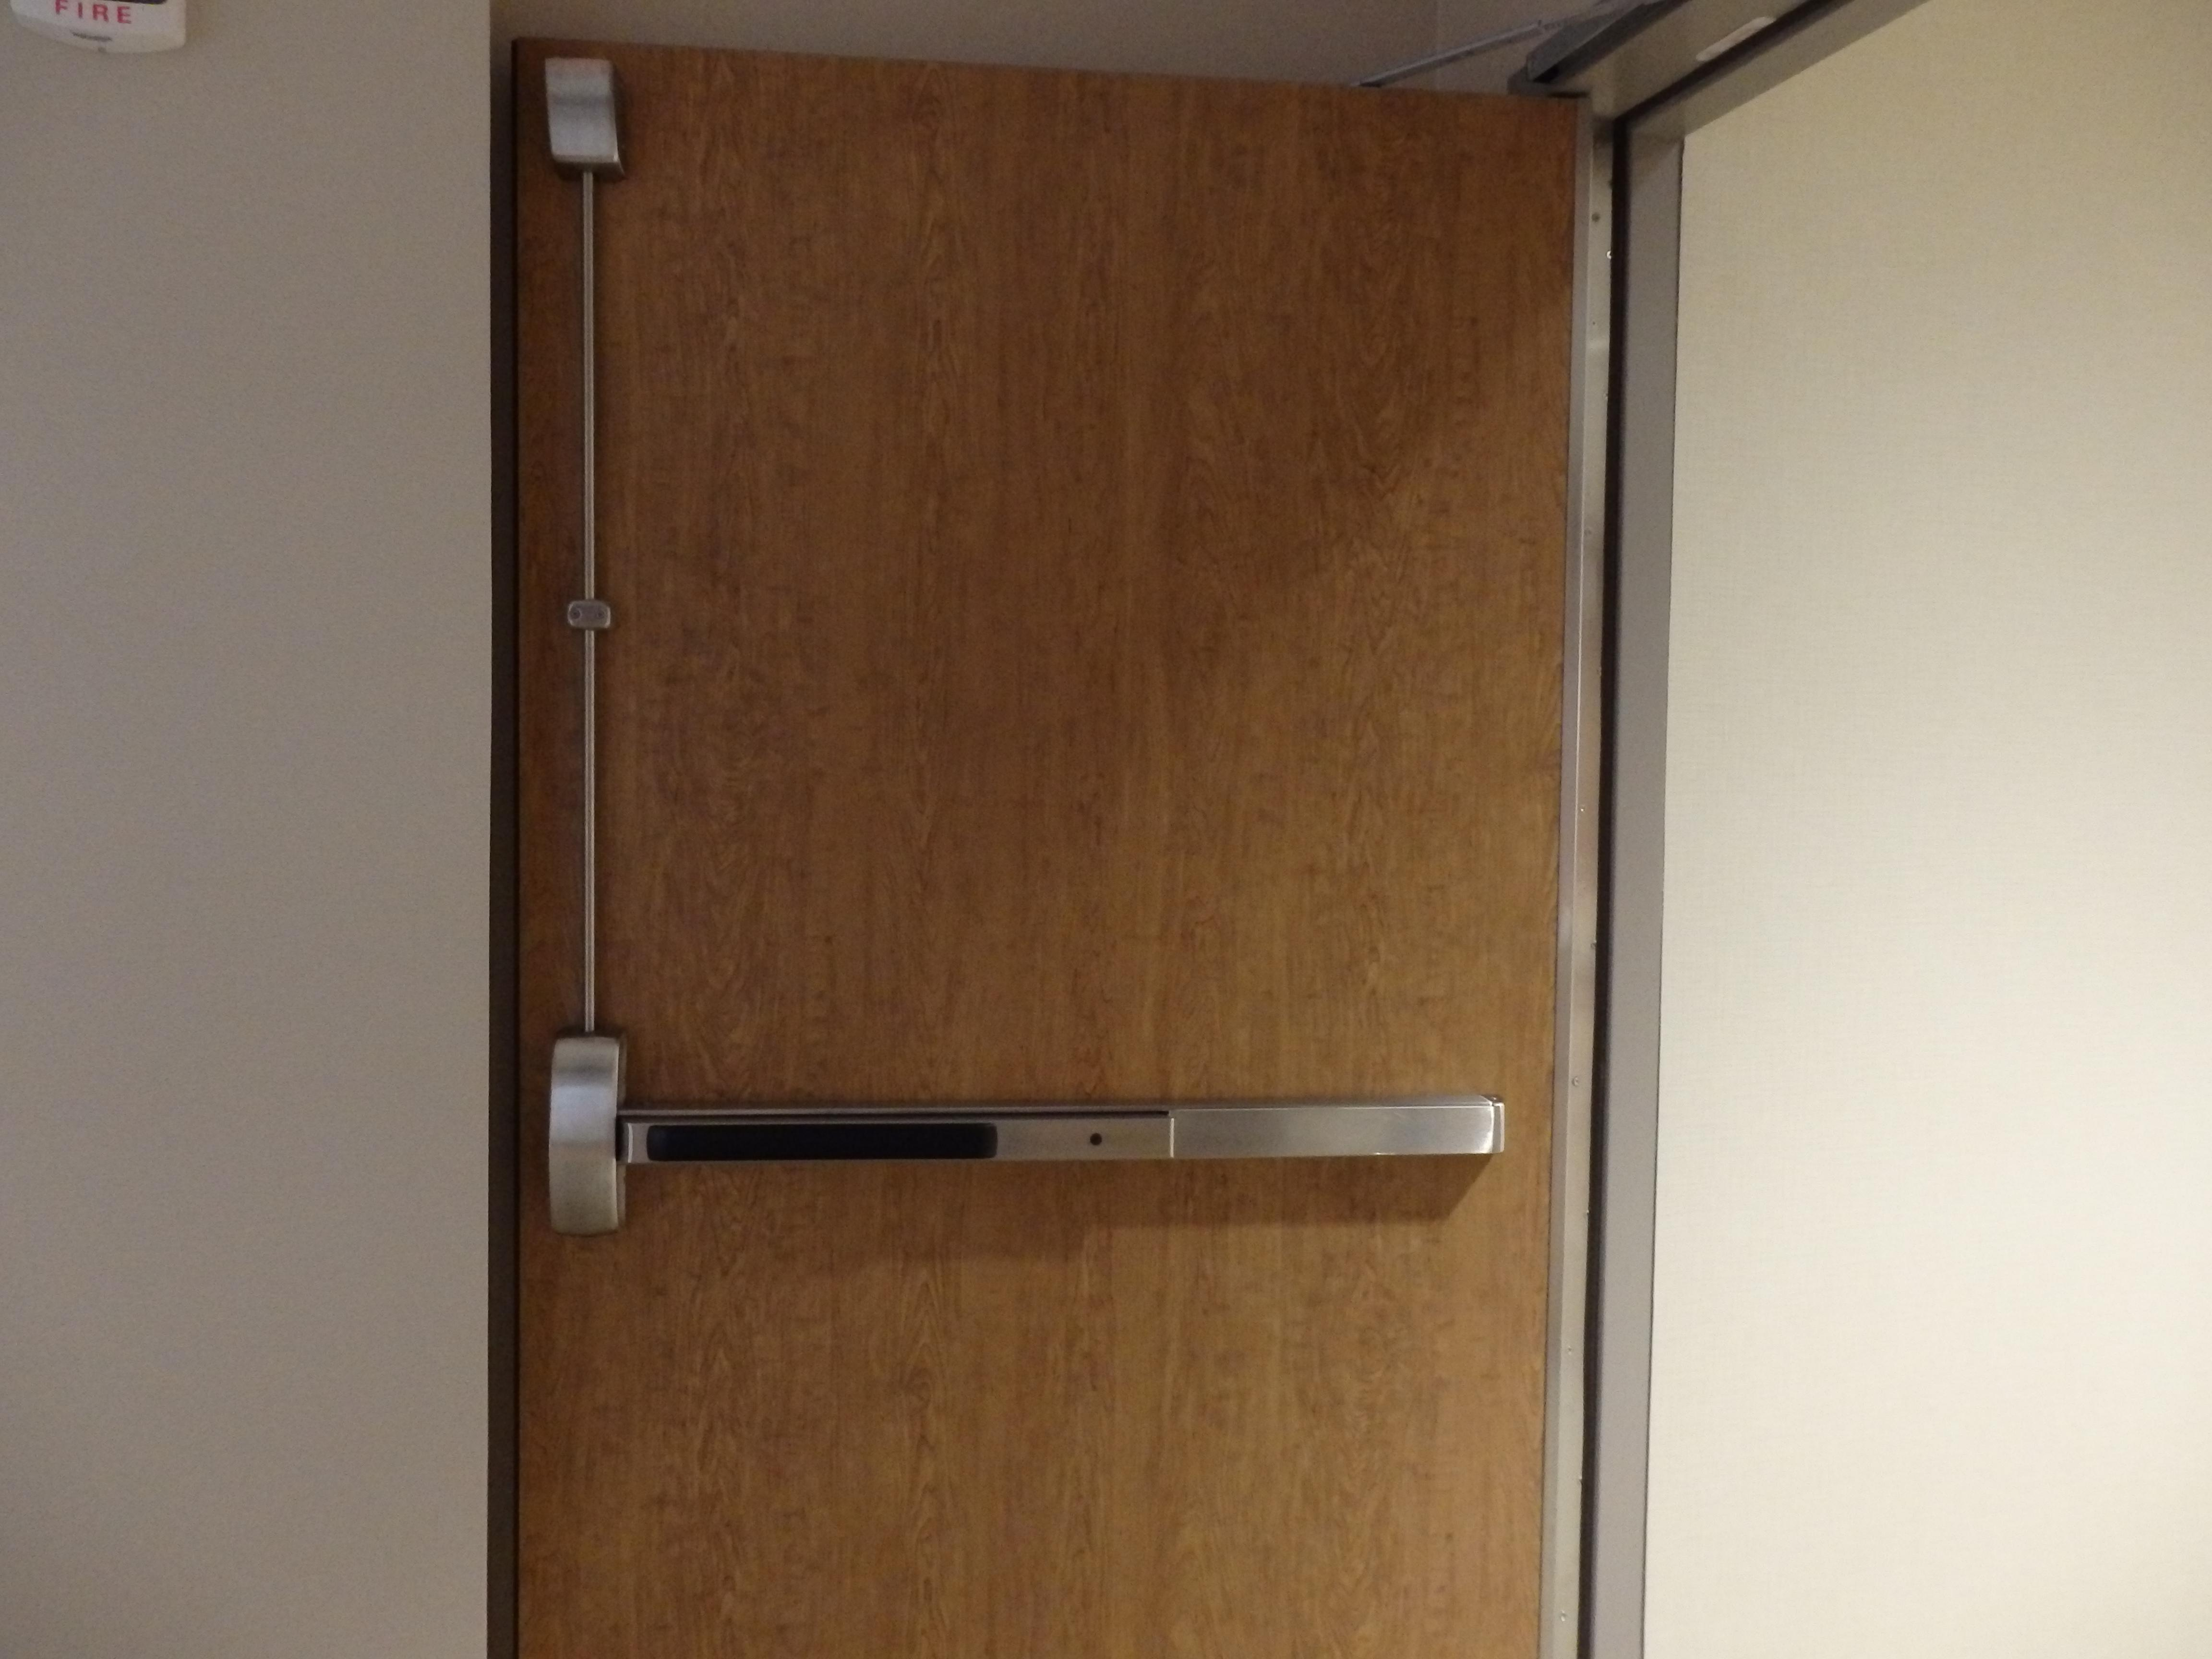door: (505, 17, 1566, 1659)
